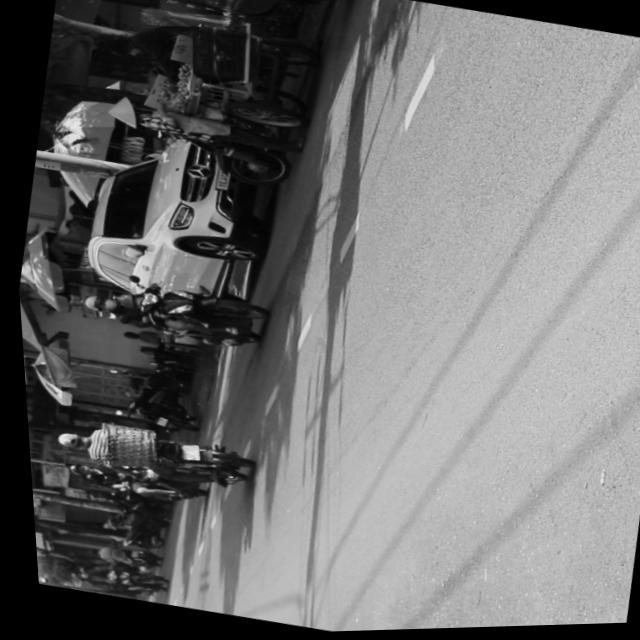helmet: (77, 291, 111, 313)
licenseplate: (44, 409, 253, 498), (71, 268, 269, 360)
motorcyclist: (47, 428, 86, 452)
nohelmet: (173, 443, 196, 463)
